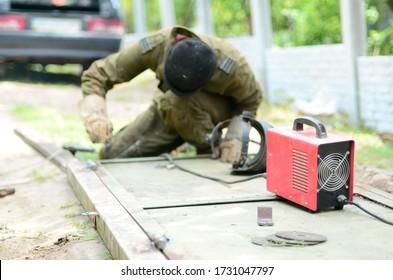gloves: (212, 114, 248, 162), (79, 95, 113, 145)
